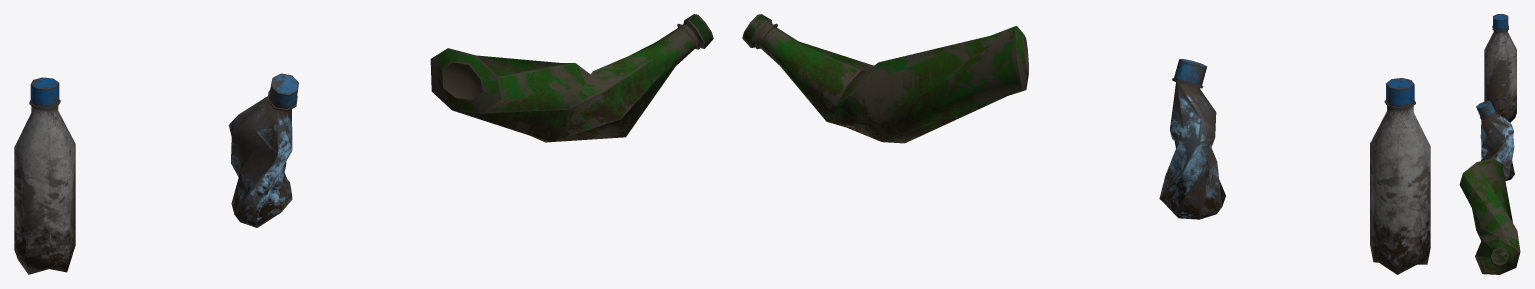
3 renders of one model, left to right at view 1: azimuth 30°, elevation 25°; view 2: azimuth 150°, elevation 25°; view 3: azimuth 270°, elevation 25°, orthographic. The views are drawn at different scales.
Parts seen in each view (by area): view 1: Plastic_Bottle_03_GEO, Plastic_Bottle_01_GEO, Plastic_Bottle_02_GEO; view 2: Plastic_Bottle_03_GEO, Plastic_Bottle_01_GEO, Plastic_Bottle_02_GEO; view 3: Plastic_Bottle_03_GEO, Plastic_Bottle_01_GEO, Plastic_Bottle_02_GEO.
Part boxes in pixels (bbox=[...]): Plastic_Bottle_03_GEO: bbox=[430, 14, 713, 142]; Plastic_Bottle_01_GEO: bbox=[14, 77, 75, 274]; Plastic_Bottle_02_GEO: bbox=[228, 73, 298, 227]; Plastic_Bottle_03_GEO: bbox=[742, 14, 1028, 143]; Plastic_Bottle_01_GEO: bbox=[1370, 78, 1430, 274]; Plastic_Bottle_02_GEO: bbox=[1159, 59, 1225, 219]; Plastic_Bottle_03_GEO: bbox=[1459, 158, 1520, 274]; Plastic_Bottle_01_GEO: bbox=[1484, 14, 1516, 122]; Plastic_Bottle_02_GEO: bbox=[1476, 100, 1514, 181].
Bounding box in the file's own units: 1.24 × 0.3134 × 0.1685.
1 material, 1 textured.
